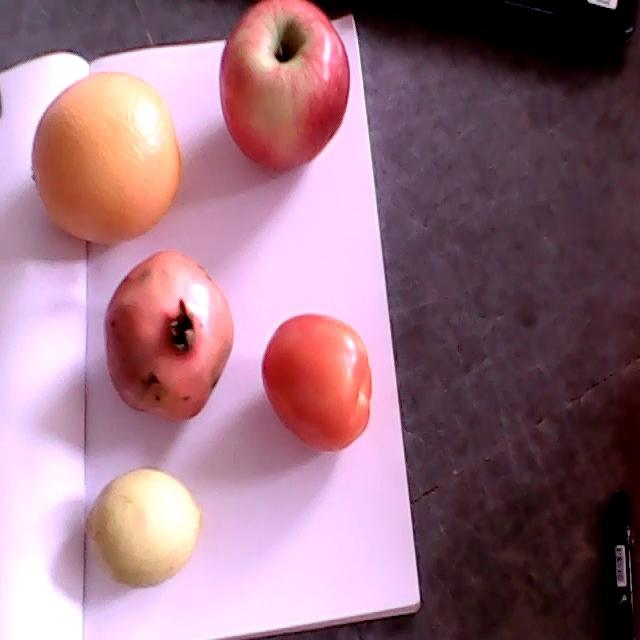apple: (219, 0, 350, 172)
lemon: (85, 469, 200, 589)
orange: (32, 72, 181, 245)
pomegranate: (106, 250, 234, 420)
tomato: (262, 313, 373, 452)
